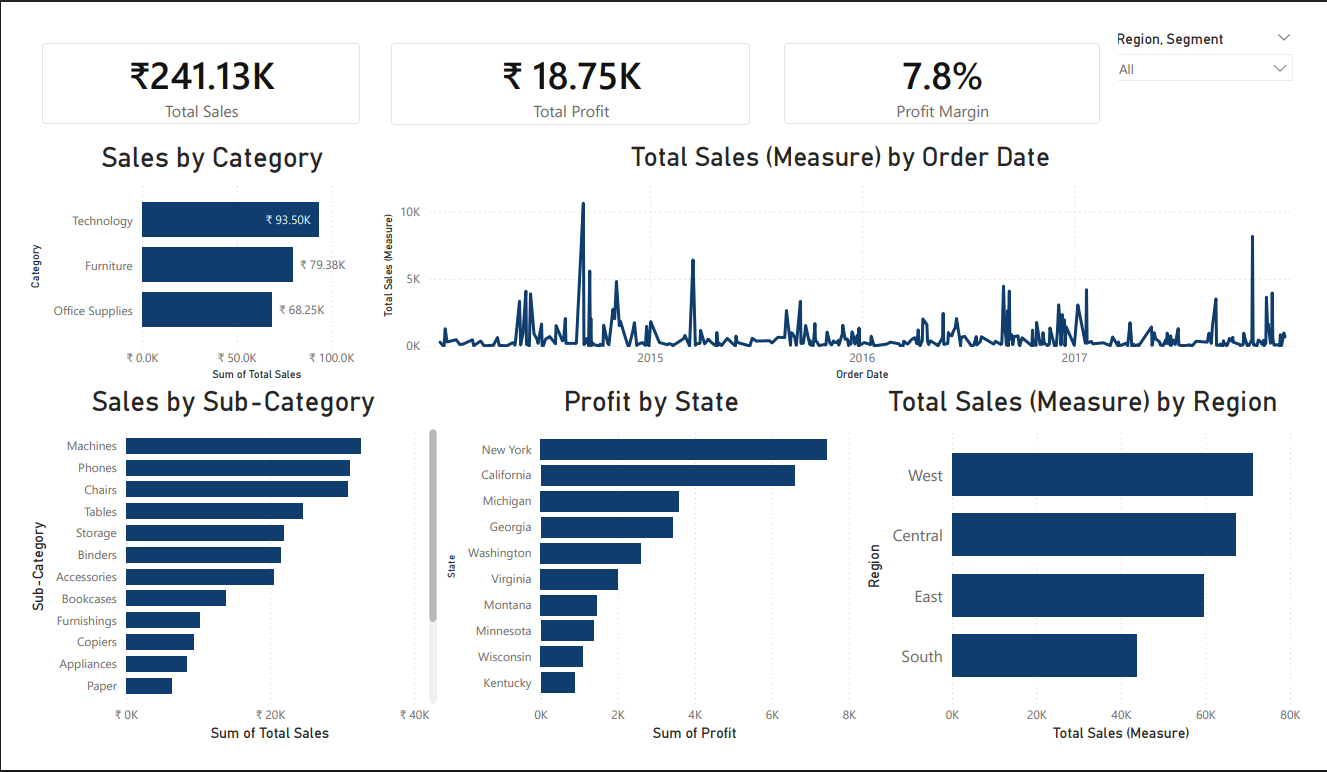

The page's visual inventory and layout, read from the dashboard file:
{"tool":"powerbi","page":{"name":"Page 1","canvas":[1280,720],"ordinal":0},"visuals":[{"type":"clusteredBarChart","title":"Sales by Category","fields":{"Category":["Sheet1.Category"],"Y":["Sum(Sheet1.Sales)"]},"box":[0,115.3,374.6,244.1],"z":0},{"type":"clusteredBarChart","title":"Sales by Sub-Category","fields":{"Category":["Sheet1.Sub-Category"],"Y":["Sum(Sheet1.Sales)"]},"box":[0,359.3,416.9,361],"z":1000},{"type":"clusteredBarChart","title":"Profit by State","fields":{"Category":["Sheet1.State"],"Y":["Sum(Sheet1.Profit)"]},"box":[416.9,359.3,418.6,361],"z":2000},{"type":"slicer","fields":{"Values":["Sheet1.Region","Sheet1.Segment"]},"box":[1078,0,200,115.3],"z":3000},{"type":"cardVisual","fields":{"Data":["Sheet1.Total Sales (Measure)"]},"box":[0,0,352.5,115.3],"z":4000},{"type":"cardVisual","fields":{"Data":["Sheet1.Profit Margin Measure"]},"box":[742.4,0,350.8,115.3],"z":5000},{"type":"cardVisual","fields":{"Data":["Sum(Sheet1.Profit)"]},"box":[349.2,0,393.2,116.9],"z":6000},{"type":"lineChart","fields":{"Category":["Sheet1.Order Date"],"Y":["Sheet1.Total Sales (Measure)"]},"box":[352.5,115.3,925.4,244.1],"z":7000},{"type":"clusteredBarChart","fields":{"Category":["Sheet1.Region"],"Y":["Sheet1.Total Sales (Measure)"]},"box":[835.6,359.3,444.1,361],"z":8000}]}

Visuals, with their boxes on the page's 1280x720 design canvas (x1, y1, x2, y2). These are canvas units, not pixel positions in the 1327x772 screenshot, which may show the page scaled, cropped or inside an application window:
"Sales by Category" clusteredBarChart: box(0, 115, 375, 359)
"Sales by Sub-Category" clusteredBarChart: box(0, 359, 417, 720)
"Profit by State" clusteredBarChart: box(417, 359, 836, 720)
slicer - Sheet1.Region x Sheet1.Segment: box(1078, 0, 1278, 115)
cardVisual - Sheet1.Total Sales (Measure): box(0, 0, 352, 115)
cardVisual - Sheet1.Profit Margin Measure: box(742, 0, 1093, 115)
cardVisual - Sum(Sheet1.Profit): box(349, 0, 742, 117)
lineChart - Sheet1.Order Date x Sheet1.Total Sales (Measure): box(352, 115, 1278, 359)
clusteredBarChart - Sheet1.Region x Sheet1.Total Sales (Measure): box(836, 359, 1280, 720)
